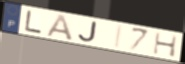7: (130, 26, 151, 53)
A: (44, 13, 75, 42)
H: (152, 31, 179, 59)
I: (114, 24, 125, 50)
J: (76, 20, 98, 43)
L: (24, 9, 44, 35)
